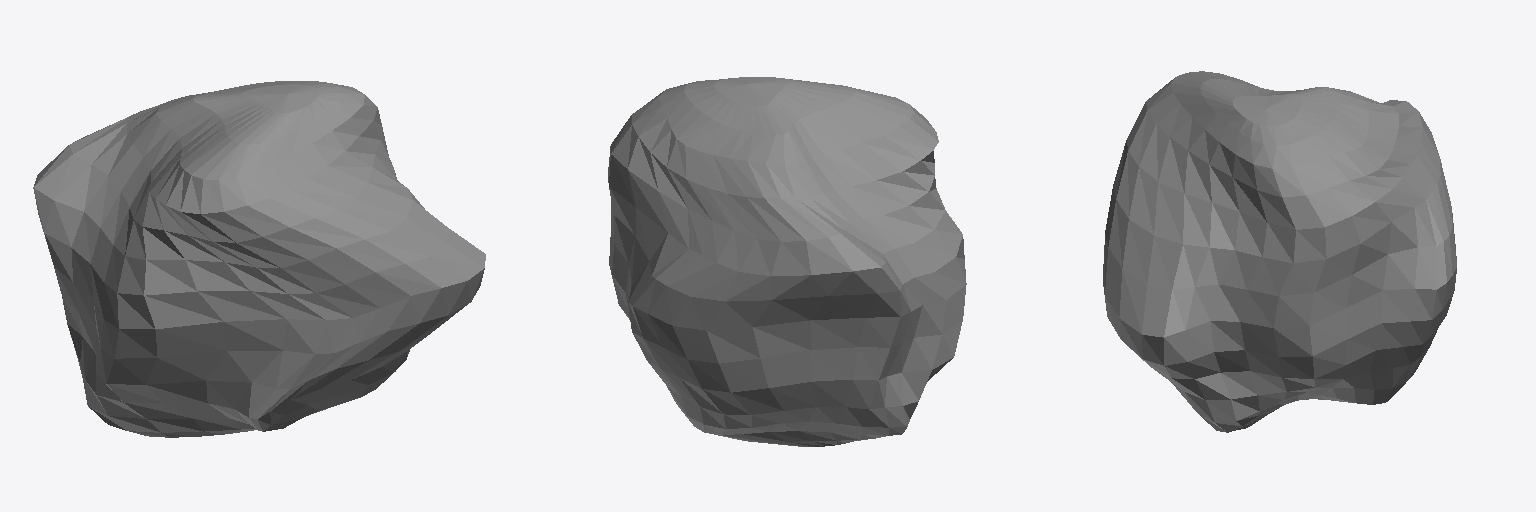
Rendered from meteor_02.obj.
The picture shows the model from 3 angles: view 1: azimuth 30°, elevation 25°; view 2: azimuth 150°, elevation 25°; view 3: azimuth 270°, elevation 25°; orthographic projection.
Visible parts, largest first — view 1: Meteor_02_001; view 2: Meteor_02_001; view 3: Meteor_02_001.
Boxes of the visible parts, x1=… form: Meteor_02_001: x1=33, y1=81, x2=485, y2=437; Meteor_02_001: x1=608, y1=77, x2=966, y2=446; Meteor_02_001: x1=1103, y1=71, x2=1456, y2=432.
Bounding box in the file's own units: 236 × 211 × 211.